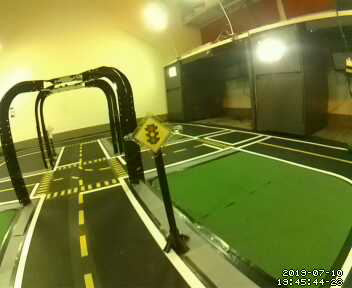Traffic light sign: (134, 116, 174, 153)
